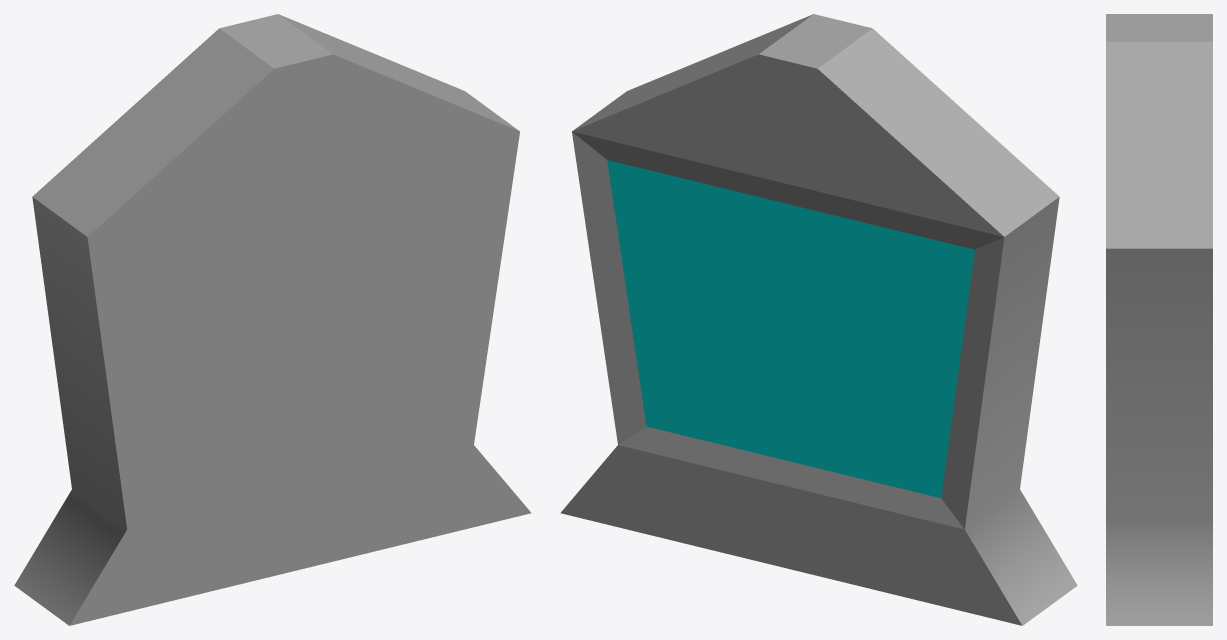
Rendered from Badge.fbx.
3 views of the same model, side by side, from view 1: azimuth 30°, elevation 25°; view 2: azimuth 150°, elevation 25°; view 3: azimuth 270°, elevation 25° (orthographic). The views are drawn at different scales.
Parts seen in each view (by area): view 1: pCube1; view 2: pCube1; view 3: pCube1.
Part boxes in pixels (x1,y1,x2,y2): pCube1: (14, 14, 531, 625); pCube1: (560, 14, 1077, 625); pCube1: (1106, 14, 1212, 625).
Size of the model in its own units: 25.71 by 26.96 by 5.31.
